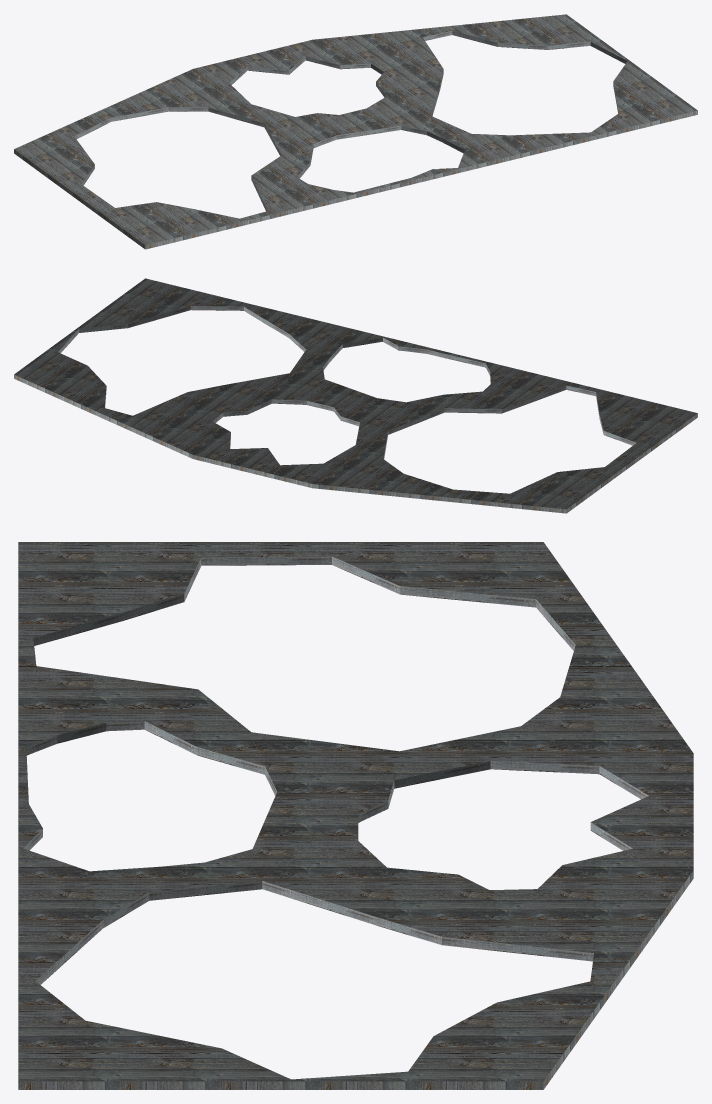
File: ceiling2.fbx
The picture shows the model from 3 angles, top to bottom: view 1: azimuth 30°, elevation 25°; view 2: azimuth 150°, elevation 25°; view 3: azimuth 270°, elevation 25°; orthographic projection. The views are drawn at different scales.
Parts seen in each view (by area): view 1: ceiling2; view 2: ceiling2; view 3: ceiling2.
Boxes of the visible parts, x1,y1,x2,y2 form: ceiling2: [14, 14, 697, 249]; ceiling2: [14, 278, 697, 513]; ceiling2: [18, 542, 693, 1089].
Size of the model in its own units: 163200 by 1200 by 86400.
